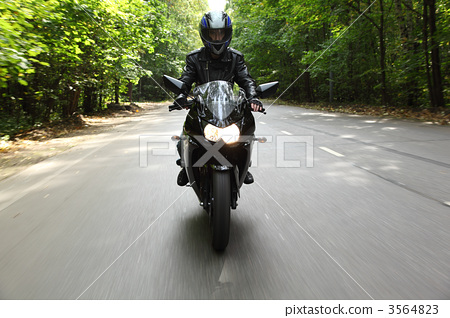helmet: (197, 9, 235, 52)
